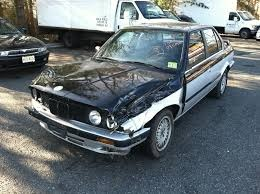Dent: (106, 78, 179, 125)
